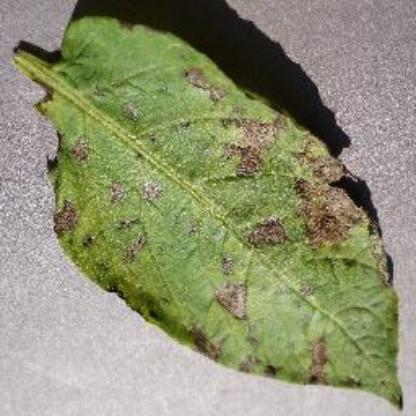Early-Blight: (12, 7, 412, 408)
